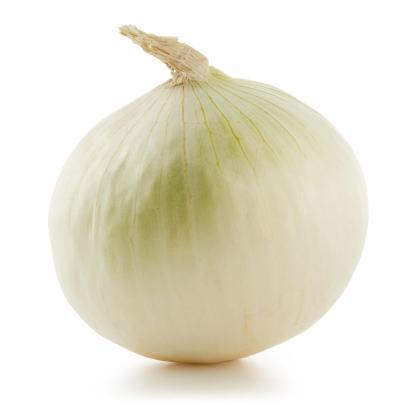onion: (51, 59, 366, 377)
